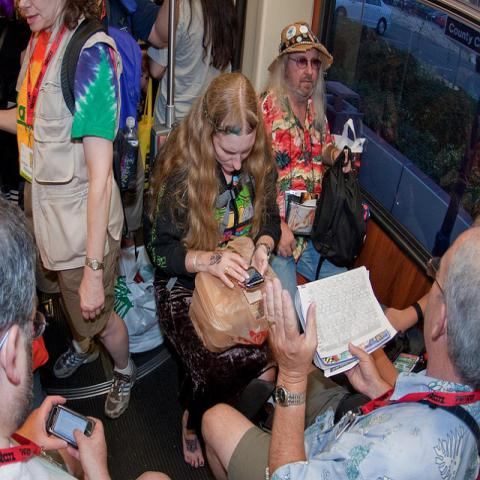car: (334, 0, 391, 36), (406, 0, 437, 21), (475, 53, 479, 75)
